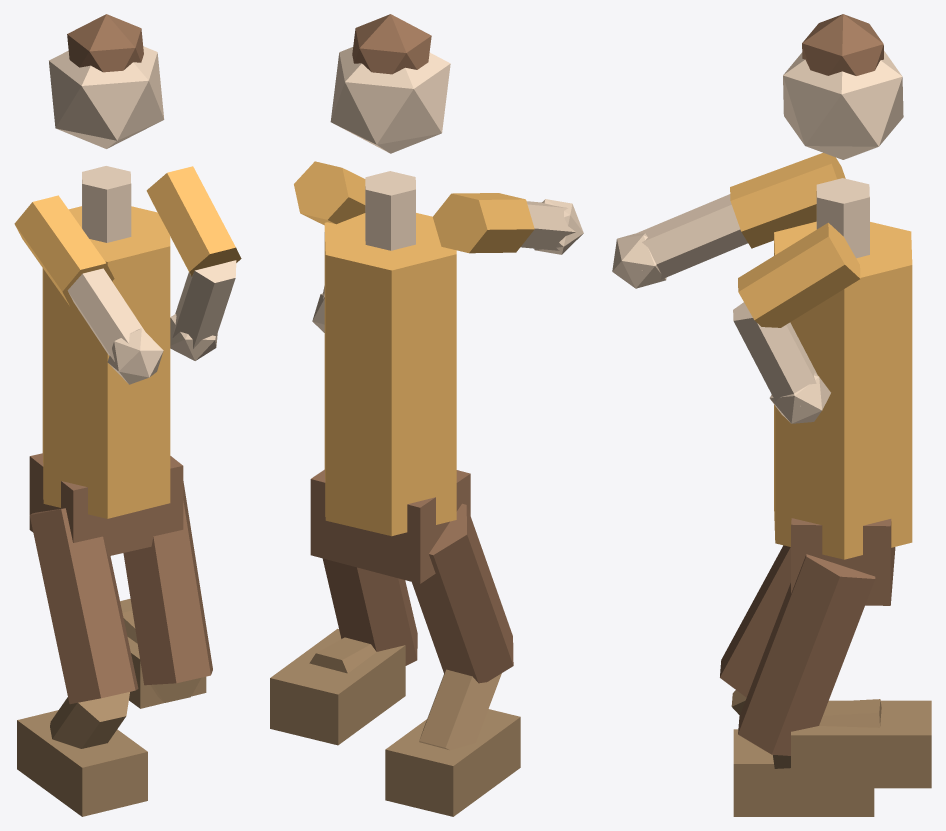
Rendered from pose_walk_02.glb.
3 views of the same model, side by side, from view 1: azimuth 30°, elevation 25°; view 2: azimuth 150°, elevation 25°; view 3: azimuth 270°, elevation 25° (orthographic). The views are drawn at different scales.
Parts seen in each view (by area): view 1: pose; view 2: pose; view 3: pose.
Part boxes in pixels (<box>): pose: <box>14,14,241,816</box>; pose: <box>270,14,583,816</box>; pose: <box>612,14,931,816</box>.
Size of the model in its own units: 0.3977 by 1.52 by 0.545.
